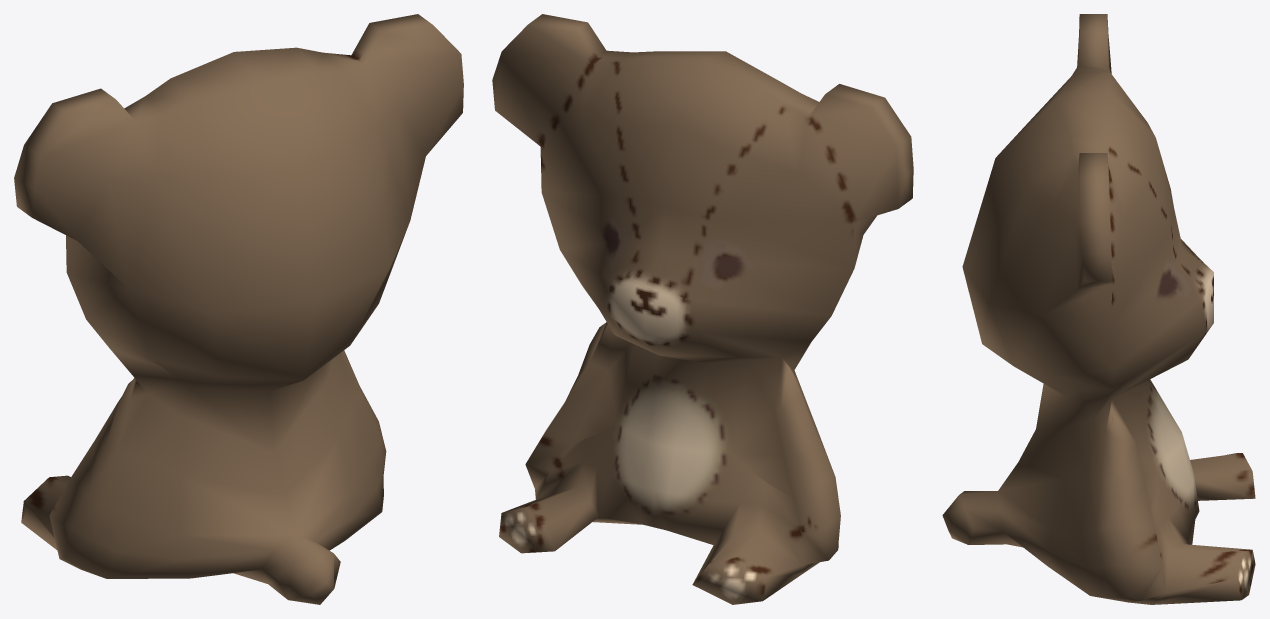
File: TeedyBear.fbx
The picture shows the model from 3 angles, left to right: view 1: azimuth 30°, elevation 25°; view 2: azimuth 150°, elevation 25°; view 3: azimuth 270°, elevation 25°; orthographic projection. The views are drawn at different scales.
Parts seen in each view (by area): view 1: teddybear; view 2: teddybear; view 3: teddybear.
Boxes of the visible parts, box(x1,y1,x2,y2) form: teddybear: box(14, 14, 463, 604); teddybear: box(492, 14, 913, 604); teddybear: box(942, 14, 1255, 604).
Size of the model in its own units: 140 by 153 by 94.76.
Materials: 1 (1 with a texture image).
